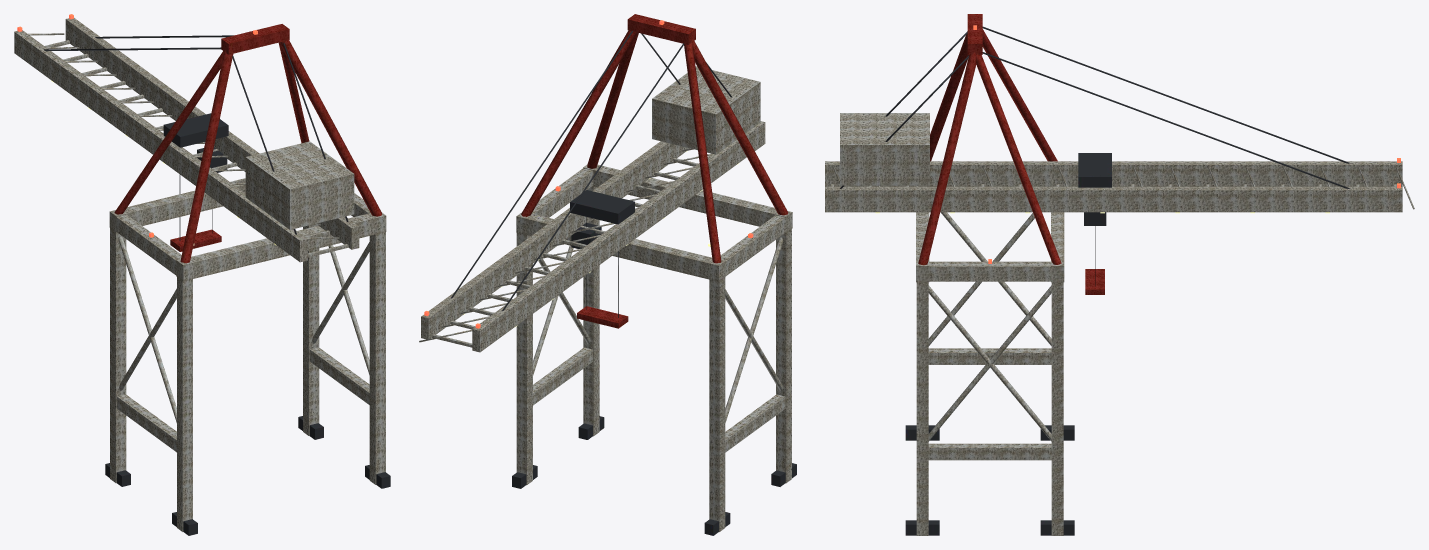
File: gantry_crane.glb
The picture shows the model from 3 angles, left to right: view 1: azimuth 30°, elevation 25°; view 2: azimuth 150°, elevation 25°; view 3: azimuth 270°, elevation 25°; orthographic projection.
Visible parts, largest first — view 1: gantry_crane; view 2: gantry_crane; view 3: gantry_crane.
Boxes of the visible parts, x1=… form: gantry_crane: x1=14, y1=14, x2=390, y2=535; gantry_crane: x1=419, y1=14, x2=796, y2=535; gantry_crane: x1=825, y1=14, x2=1414, y2=535.
Bounding box in the file's own units: 31.6 × 67.65 × 78.61.
1 material, 1 textured.
